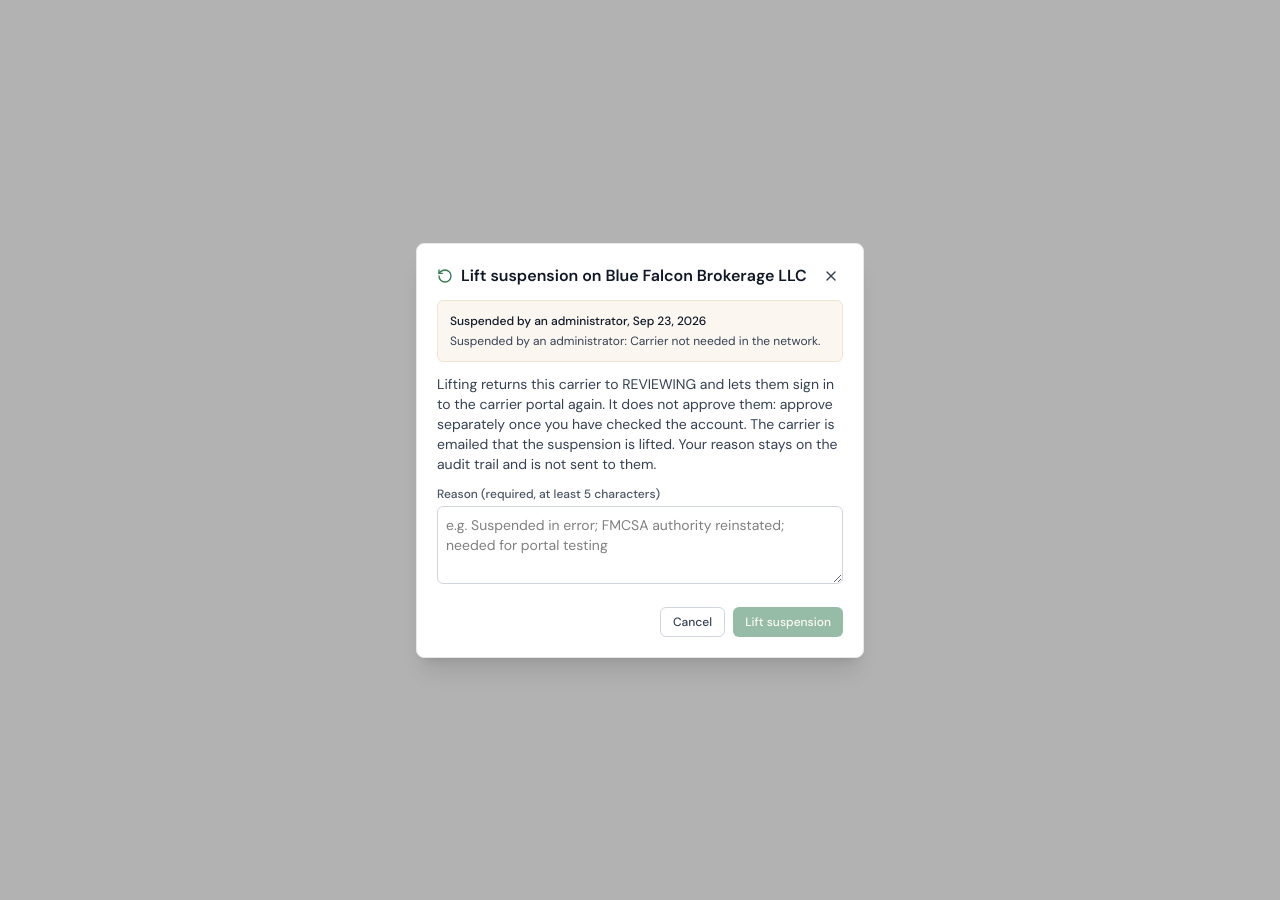
Test: LiftSuspensionModal › a server refusal is rendered, and the modal stays open
The width and height of the screenshot is (1280, 900).
Step 1. Type "needed for testing" into the text box labelled "Reason (required, at least 5 characters)" → (640, 544), box [437,506,843,584]
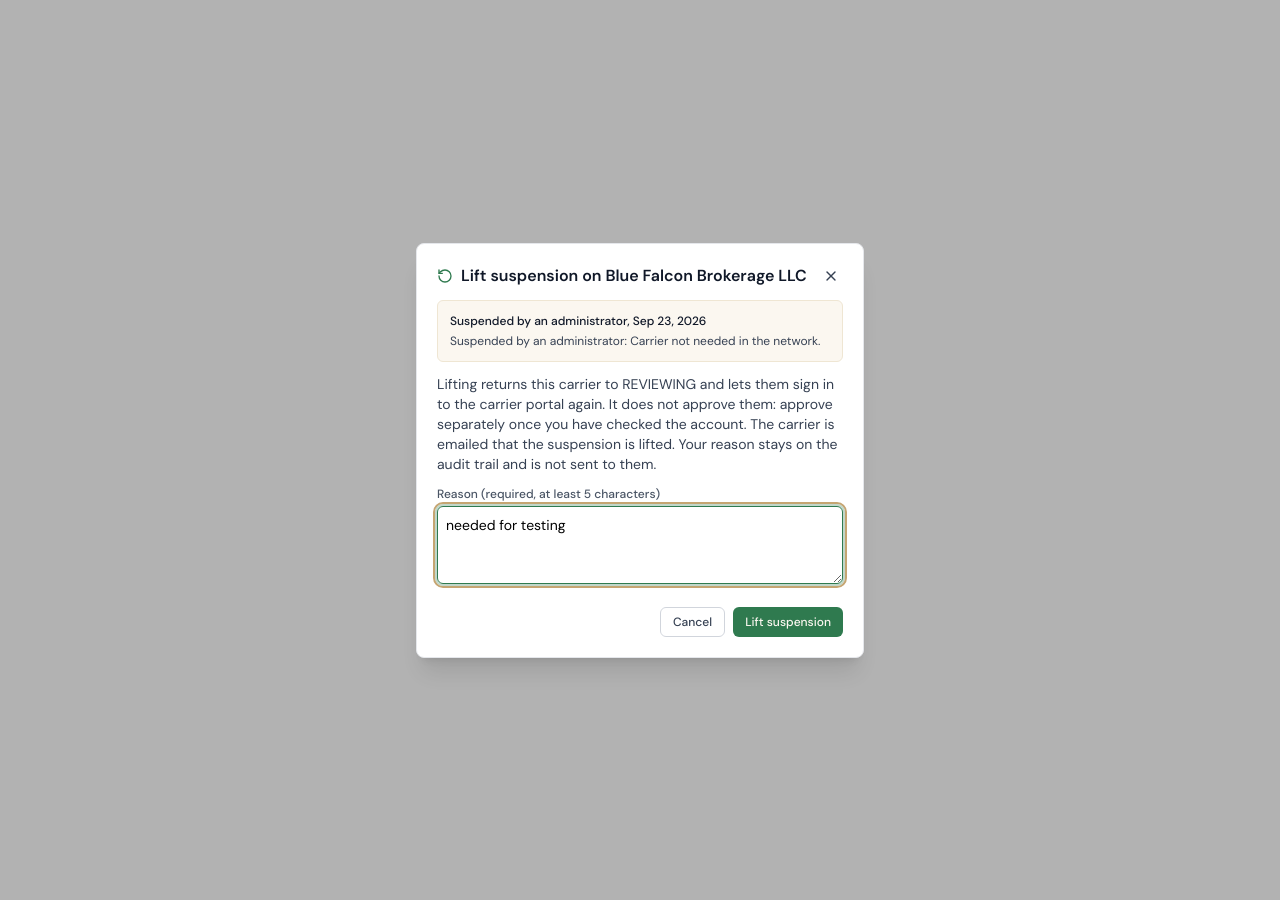
Step 2. Click the button "Lift suspension" → (788, 622), box [733,606,843,636]
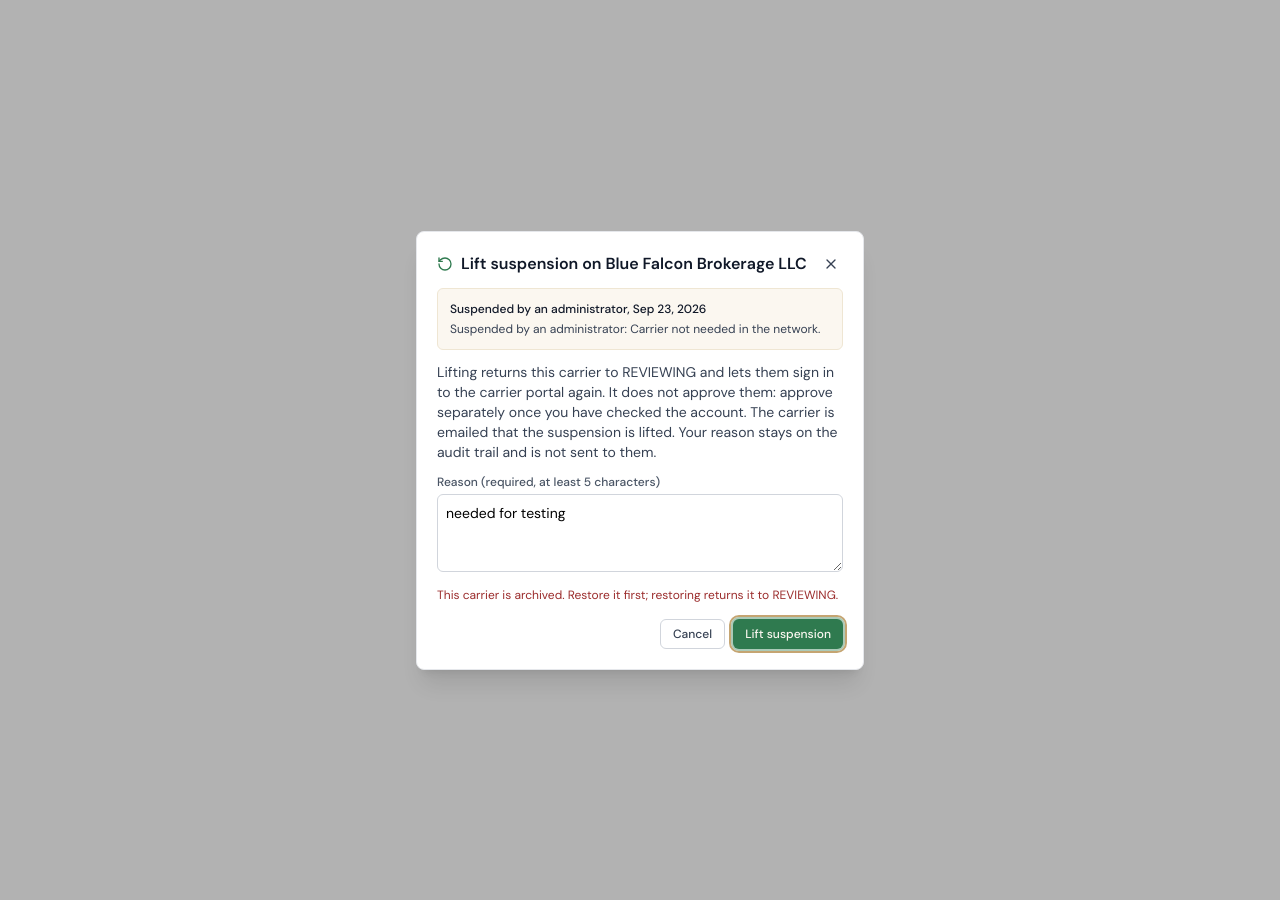
Now the message shows "Restore it first", box [437,586,838,602]
